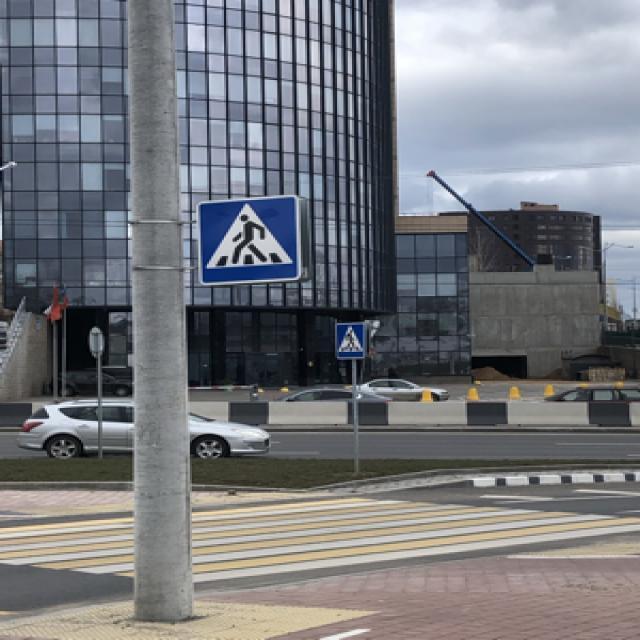crosswalk_sign: (194, 192, 306, 289), (330, 318, 370, 360)
